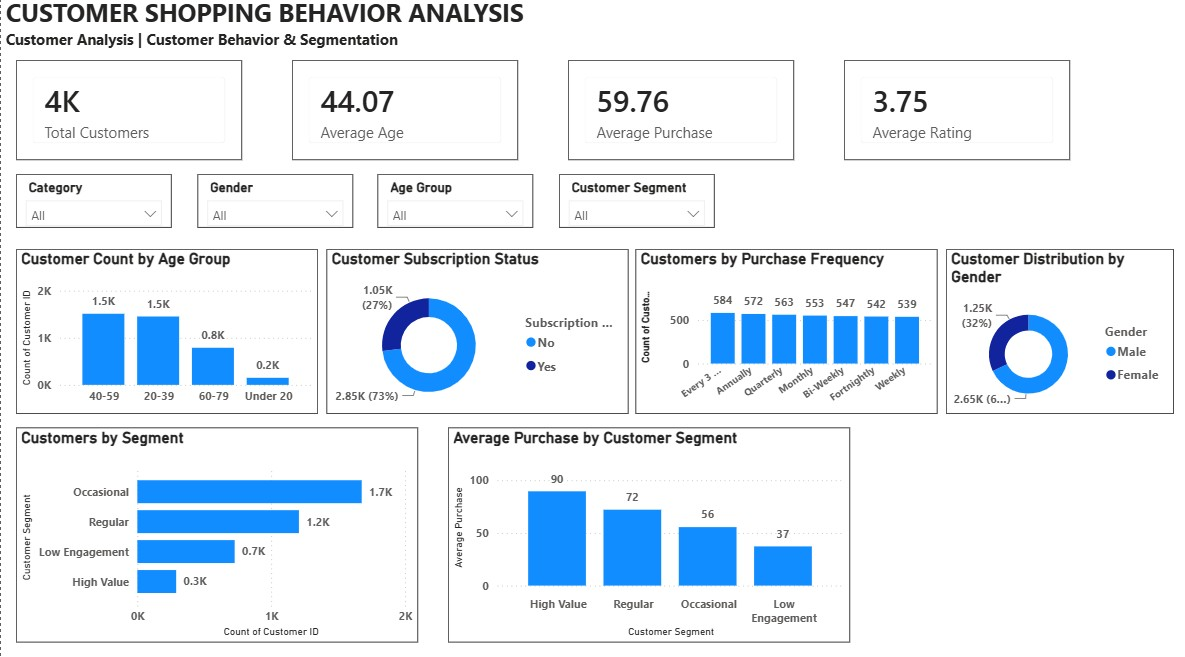

The dashboard page shown, as its layout file describes it:
{"tool":"powerbi","page":{"name":"Customer Analysis","canvas":[1280,720],"ordinal":1},"visuals":[{"type":"cardVisual","fields":{"Data":["Customer Shopping.Total Customers"]},"box":[16,74,244,108],"z":0},{"type":"cardVisual","fields":{"Data":["Customer Shopping.Average Age"]},"box":[314,74,244,108],"z":1000},{"type":"cardVisual","fields":{"Data":["Customer Shopping.Average Purchase"]},"box":[612,74,244,108],"z":2000},{"type":"cardVisual","fields":{"Data":["Customer Shopping.Average Rating"]},"box":[910,74,244,108],"z":3000},{"type":"clusteredColumnChart","title":"Customer Count by Age Group","fields":{"Category":["Customer Shopping.Age Group"],"Y":["CountNonNull(Customer Shopping.Customer ID)"]},"box":[16,278,326,178],"z":4000},{"type":"donutChart","title":"Customer Distribution by Gender","fields":{"Category":["Customer Shopping.Gender"],"Y":["CountNonNull(Customer Shopping.Customer ID)"]},"box":[1020,278,246,178],"z":5000},{"type":"donutChart","title":"Customer Subscription Status","fields":{"Category":["Customer Shopping.Subscription Status"],"Y":["CountNonNull(Customer Shopping.Customer ID)"]},"box":[350.7,278,326,178],"z":6000},{"type":"clusteredBarChart","title":"Customers by Segment","fields":{"Category":["Customer Shopping.Customer Segment"],"Y":["CountNonNull(Customer Shopping.Customer ID)"]},"box":[16,472,434,232],"z":7000},{"type":"clusteredColumnChart","title":"Customers by Purchase Frequency","fields":{"Category":["Customer Shopping.Frequency of Purchases"],"Y":["CountNonNull(Customer Shopping.Customer ID)"]},"box":[685.3,278,326,178],"z":8000},{"type":"clusteredColumnChart","title":"Average Purchase by Customer Segment","fields":{"Category":["Customer Shopping.Customer Segment"],"Y":["Customer Shopping.Average Purchase"]},"box":[482,472,434,232],"z":9000},{"type":"slicer","fields":{"Values":["Customer Shopping.Category"]},"box":[16,198,168,58],"z":10000},{"type":"slicer","fields":{"Values":["Customer Shopping.Gender"]},"box":[211.3,198,168,58],"z":11000},{"type":"textbox","box":[0,0,1280,68],"z":12000},{"type":"slicer","fields":{"Values":["Customer Shopping.Age Group"]},"box":[406.7,198,168,58],"z":13000},{"type":"slicer","fields":{"Values":["Customer Shopping.Customer Segment"]},"box":[602,198,168,58],"z":14000}]}

Visuals, with their boxes in screenshot pixels (x1, y1, x2, y2), scaled from the page's 1280x720 canvas onto the 1185x657 screenshot:
cardVisual - Customer Shopping.Total Customers: (15,68,241,166)
cardVisual - Customer Shopping.Average Age: (291,68,517,166)
cardVisual - Customer Shopping.Average Purchase: (567,68,792,166)
cardVisual - Customer Shopping.Average Rating: (842,68,1068,166)
"Customer Count by Age Group" clusteredColumnChart: (15,254,317,416)
"Customer Distribution by Gender" donutChart: (944,254,1172,416)
"Customer Subscription Status" donutChart: (325,254,626,416)
"Customers by Segment" clusteredBarChart: (15,431,417,642)
"Customers by Purchase Frequency" clusteredColumnChart: (634,254,936,416)
"Average Purchase by Customer Segment" clusteredColumnChart: (446,431,848,642)
slicer - Customer Shopping.Category: (15,181,170,234)
slicer - Customer Shopping.Gender: (196,181,351,234)
textbox: (0,0,1184,62)
slicer - Customer Shopping.Age Group: (377,181,532,234)
slicer - Customer Shopping.Customer Segment: (557,181,713,234)
